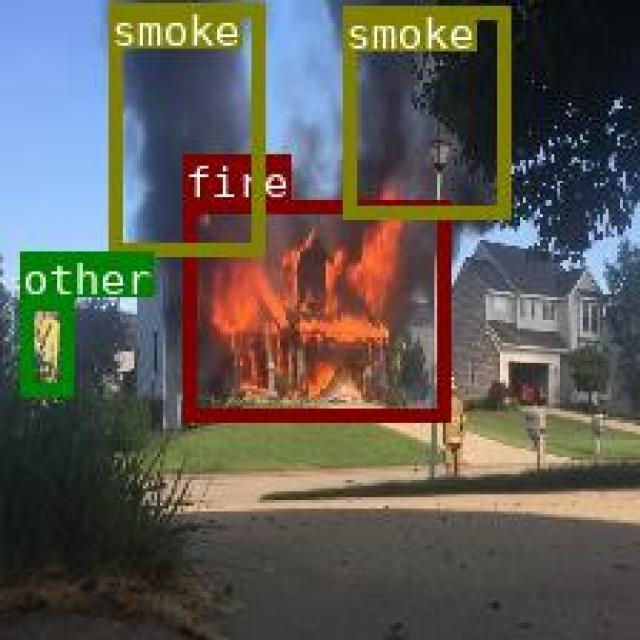fire: (182, 198, 447, 419)
smoke: (107, 2, 261, 252), (340, 4, 507, 217)
